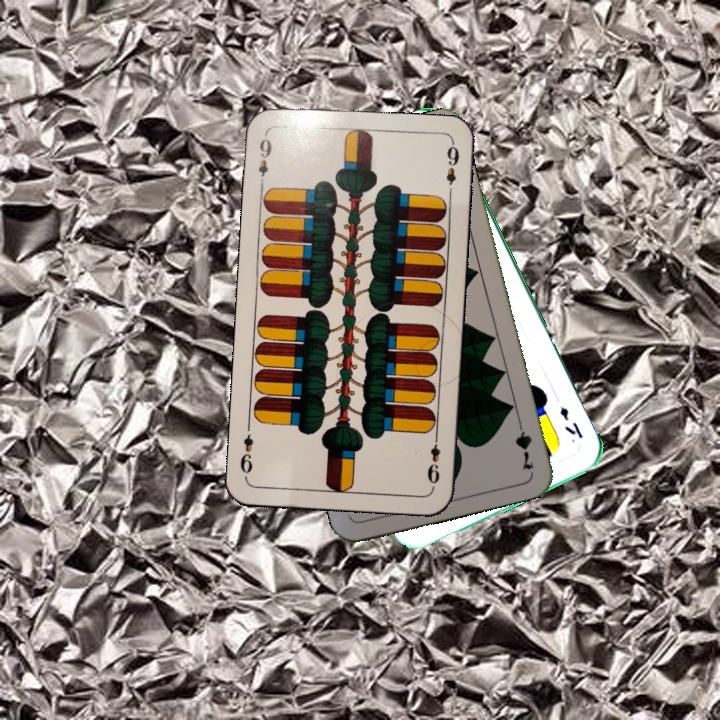E9: (254, 130, 275, 189), (423, 430, 443, 489)
EK: (555, 402, 586, 441)
G7: (511, 413, 537, 473)
